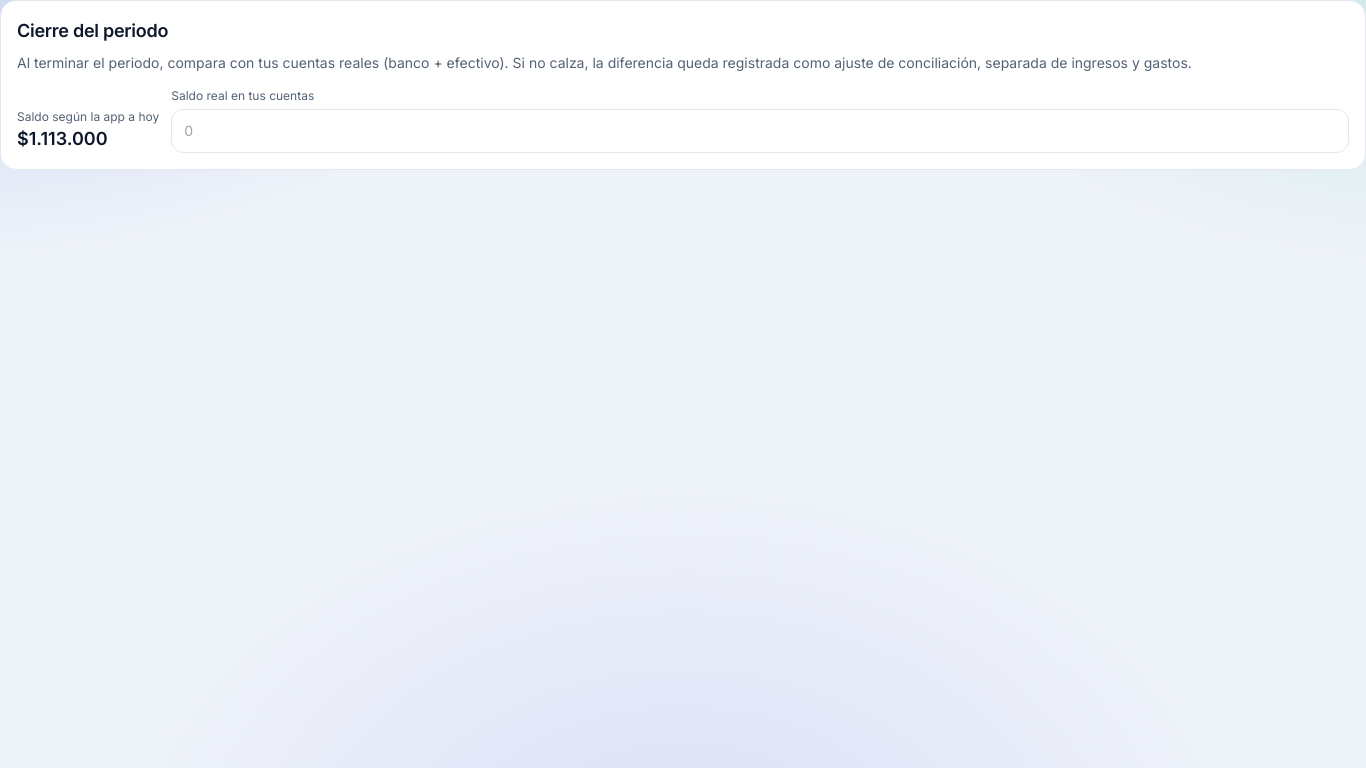
Test: cierre de periodo › registra la diferencia como ajuste (no ingreso) y cierra
The width and height of the screenshot is (1366, 768).
Later steps or results of the test are not shown.
In the field labelled "Saldo real en tus cuentas": (760, 131) [171,109,1349,153], type "1100000"
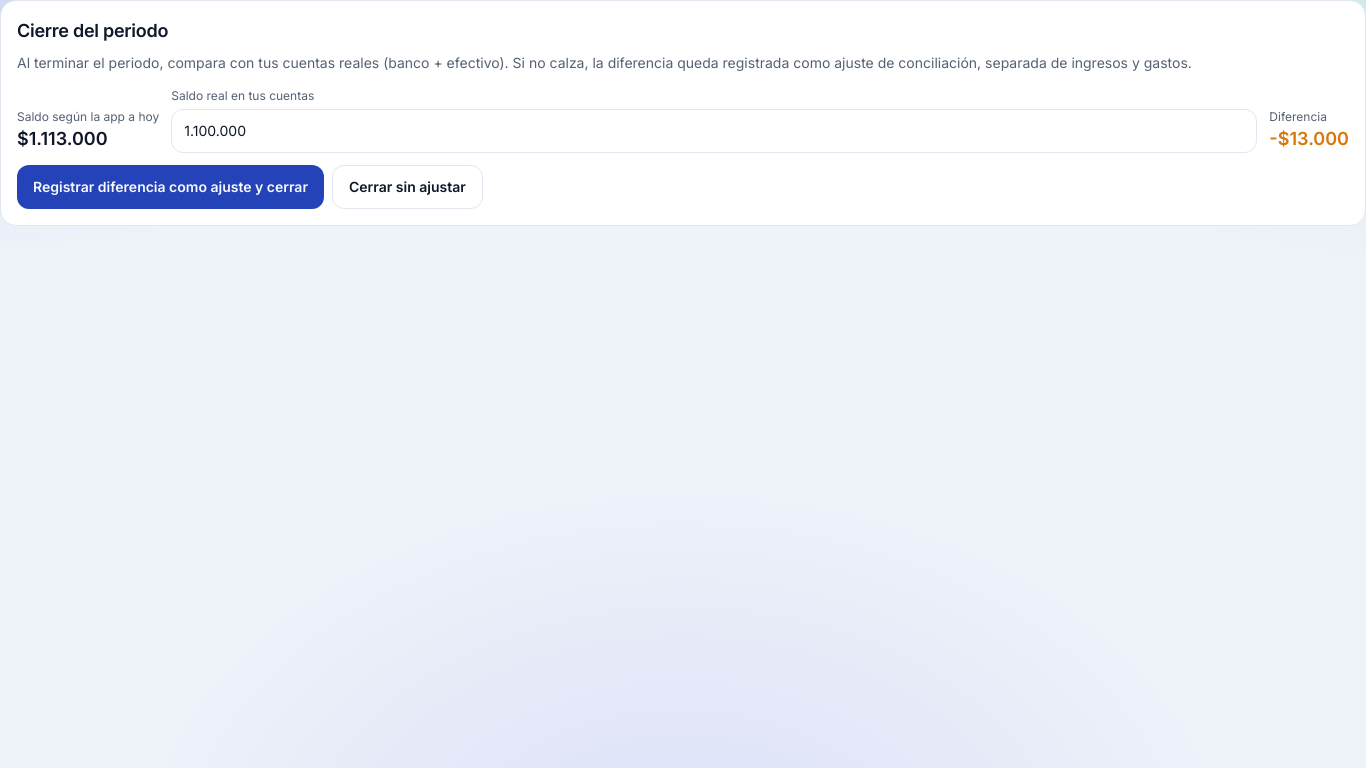
Expected: the text "-$13.000" is shown, [1269,128,1349,149]
Click the button "Registrar diferencia como ajuste y cerrar": (170, 187) [17,165,324,209]
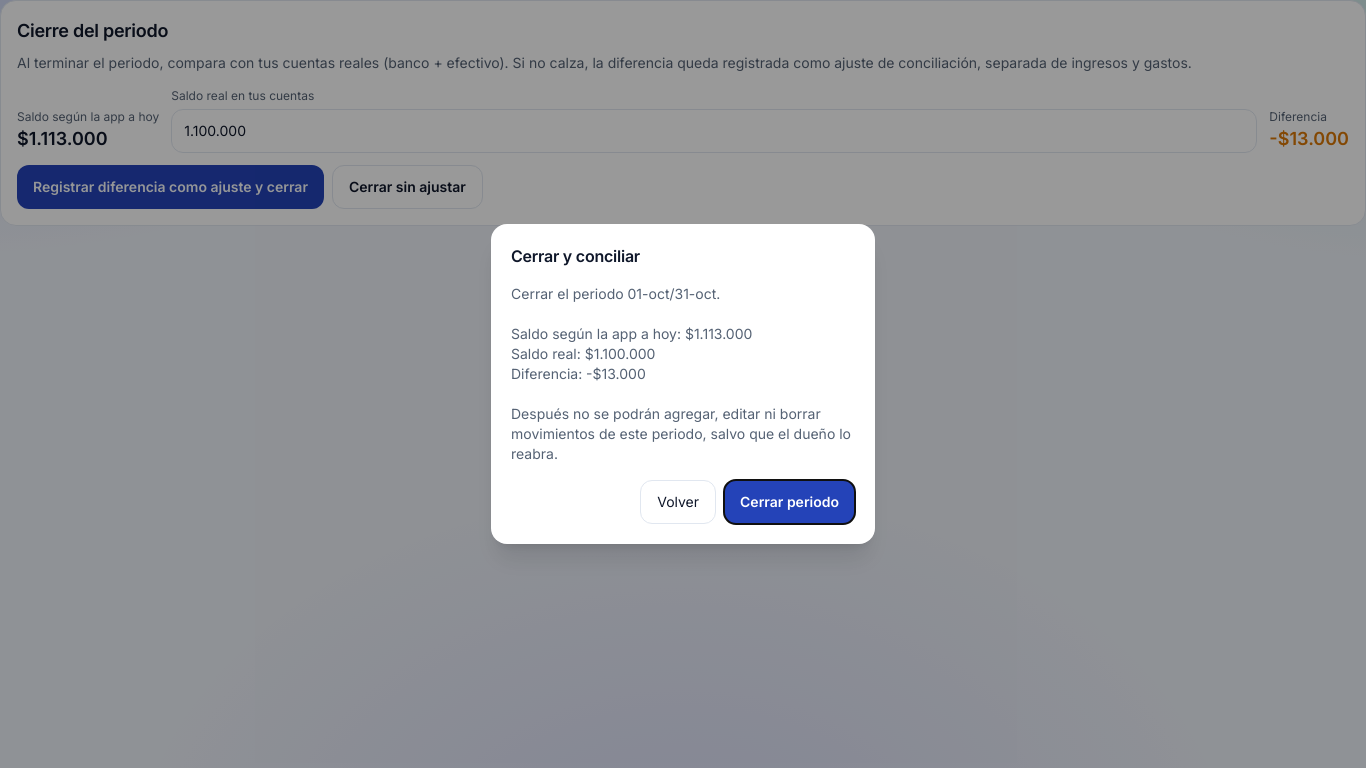
Expected: the dialog is shown, [491,224,875,544]
